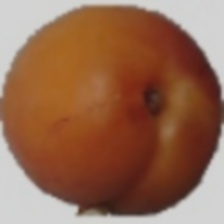apricot: (35, 9, 177, 204)
